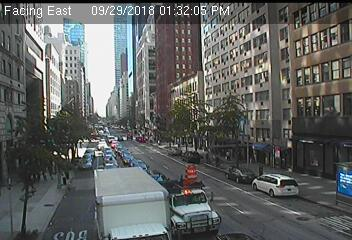car: (93, 168, 171, 240), (156, 181, 221, 238), (253, 174, 300, 198), (225, 167, 257, 183), (128, 159, 148, 172), (181, 151, 200, 164), (103, 161, 119, 169), (167, 147, 181, 156), (81, 159, 92, 169), (82, 154, 94, 163), (103, 154, 118, 161), (84, 149, 95, 154)
